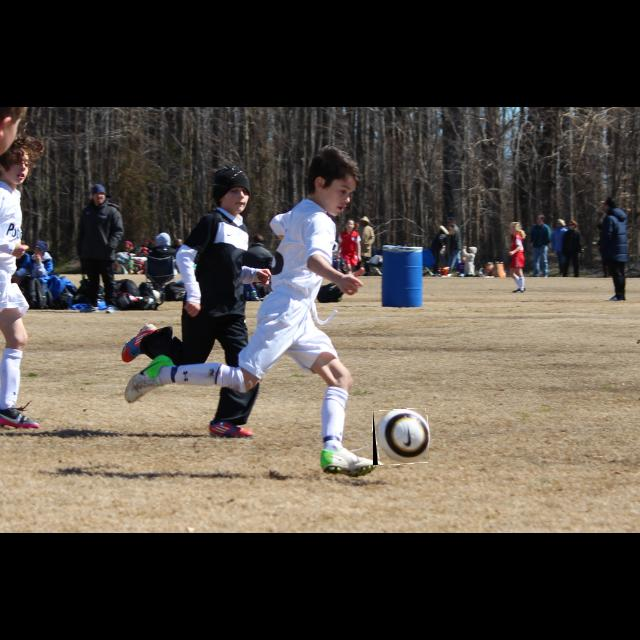Football: (373, 409, 429, 465)
